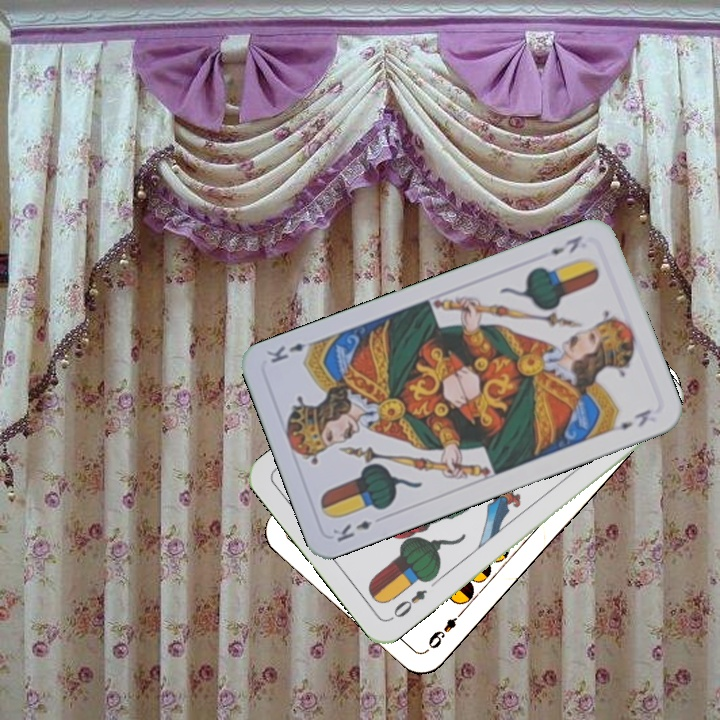E9: (423, 605, 467, 652)
EK: (328, 516, 374, 545), (546, 231, 585, 258)
EO: (385, 585, 430, 623)
